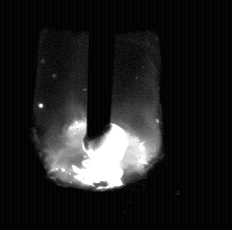arame: (88, 0, 112, 150)
poca: (35, 0, 162, 230)
